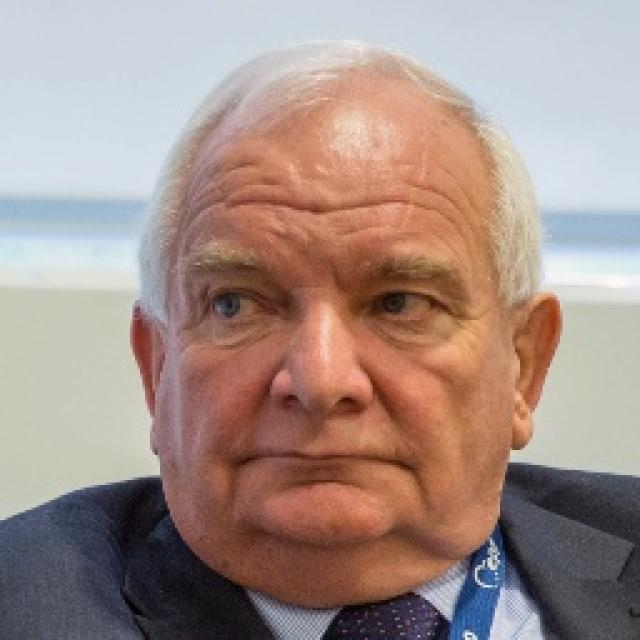earlobe: (506, 290, 564, 452), (130, 299, 160, 455)
